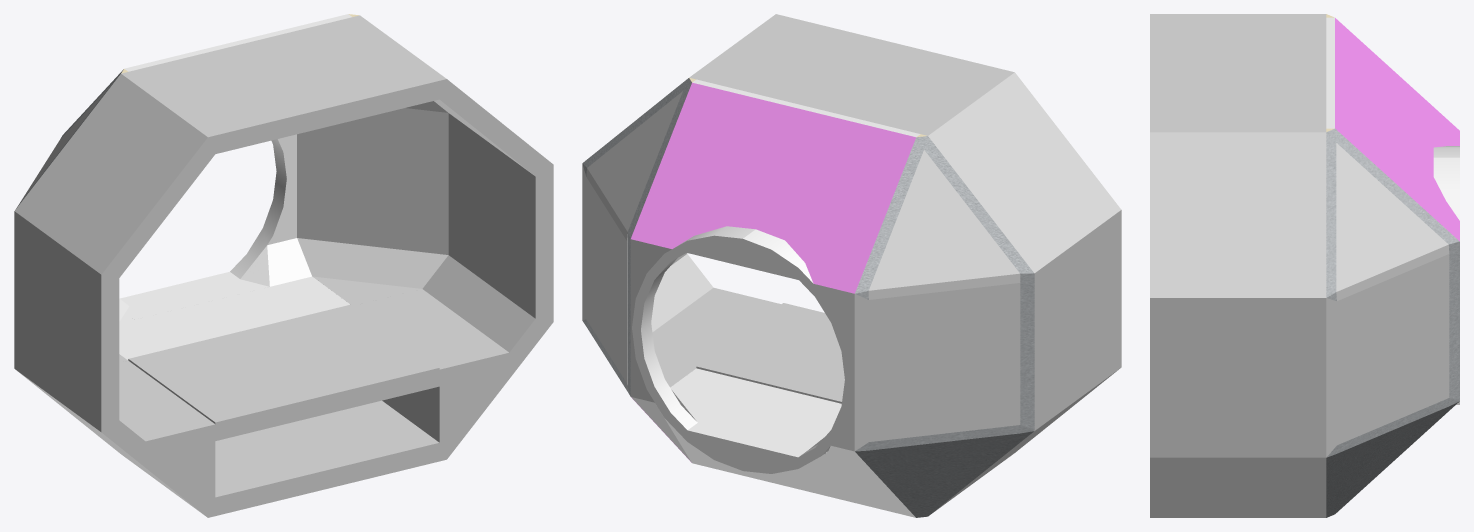
The model's file is MODULO1.fbx.
The picture shows the model from 3 angles, left to right: view 1: azimuth 30°, elevation 25°; view 2: azimuth 150°, elevation 25°; view 3: azimuth 270°, elevation 25°; orthographic projection.
Visible parts, largest first — view 1: Componente_33_1, Componente_33_2, Componente_31_1, Componente_35_1, Componente_37_1, Componente_41_1, Componente_35_2, Componente_31_2; view 2: Componente_41_1, Componente_31_2, Componente_33_1, Componente_37_1, Componente_31_1, Componente_35_1, Componente_33_2; view 3: Componente_33_2, Componente_31_1, Componente_37_1, Componente_41_1, Componente_33_1.
Part boxes in pixels (bbox=[...]): Componente_33_1: bbox=[14, 72, 215, 517]; Componente_33_2: bbox=[353, 15, 553, 461]; Componente_31_1: bbox=[297, 14, 448, 305]; Componente_35_1: bbox=[128, 304, 439, 440]; Componente_37_1: bbox=[128, 17, 439, 153]; Componente_41_1: bbox=[119, 14, 351, 359]; Componente_35_2: bbox=[215, 400, 439, 515]; Componente_31_2: bbox=[16, 69, 127, 362]; Componente_41_1: bbox=[630, 79, 920, 517]; Componente_31_2: bbox=[854, 134, 1034, 517]; Componente_33_1: bbox=[921, 70, 1121, 513]; Componente_37_1: bbox=[696, 16, 1007, 133]; Componente_31_1: bbox=[582, 77, 695, 396]; Componente_35_1: bbox=[696, 303, 844, 403]; Componente_33_2: bbox=[651, 14, 782, 367]; Componente_33_2: bbox=[1150, 128, 1326, 517]; Componente_31_1: bbox=[1326, 128, 1459, 517]; Componente_37_1: bbox=[1150, 17, 1326, 128]; Componente_41_1: bbox=[1326, 17, 1459, 404]; Componente_33_1: bbox=[1150, 14, 1326, 17].
Size of the model in its own units: 5.05 by 4.06 by 2.96.
